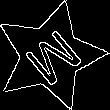M_SE: (15, 22, 85, 90)
